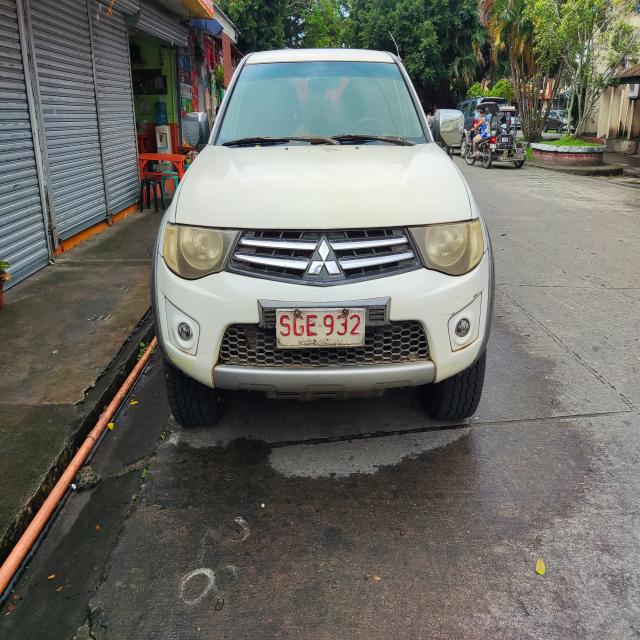plate: (272, 305, 369, 354)
